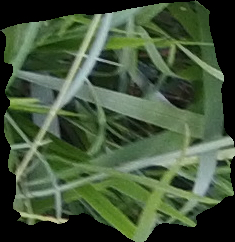grass: (1, 1, 233, 240)
